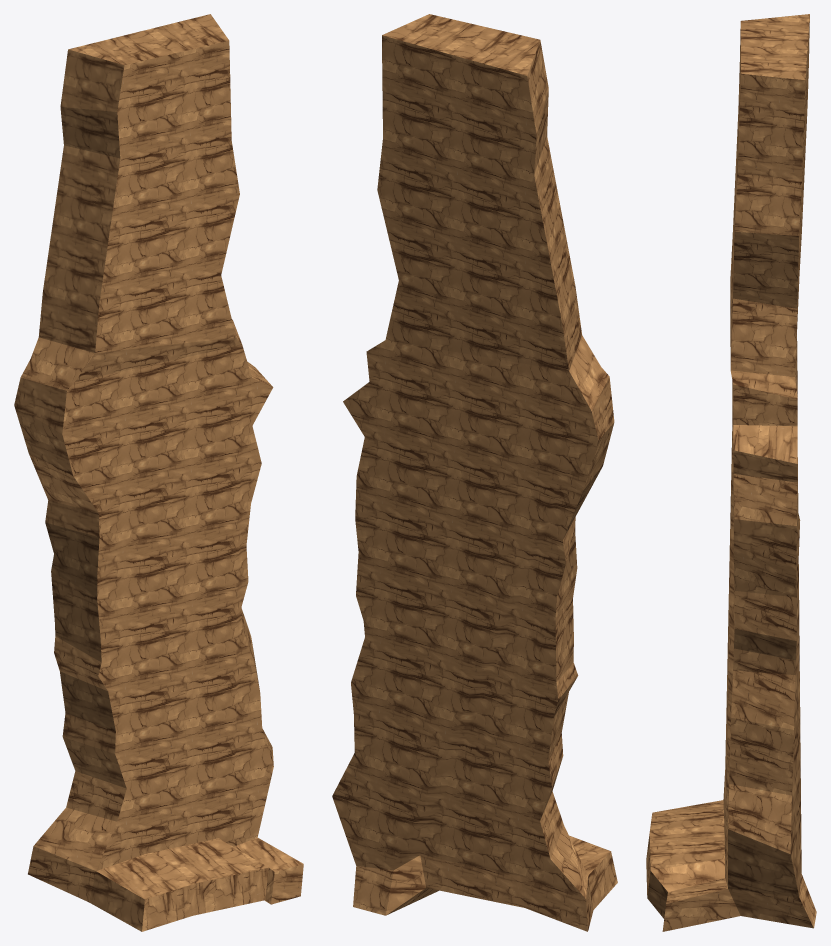
Rendered from plano7.obj.
The picture shows the model from 3 angles, left to right: view 1: azimuth 30°, elevation 25°; view 2: azimuth 150°, elevation 25°; view 3: azimuth 270°, elevation 25°; orthographic projection. The views are drawn at different scales.
Parts seen in each view (by area): view 1: Plane.034_Plane.037; view 2: Plane.034_Plane.037; view 3: Plane.034_Plane.037.
Boxes of the visible parts, x1=… form: Plane.034_Plane.037: x1=14, y1=14, x2=303, y2=931; Plane.034_Plane.037: x1=332, y1=14, x2=617, y2=931; Plane.034_Plane.037: x1=646, y1=14, x2=816, y2=931.
Bounding box in the file's own units: 456 × 1430 × 261.
Materials: 1 (1 with a texture image).
